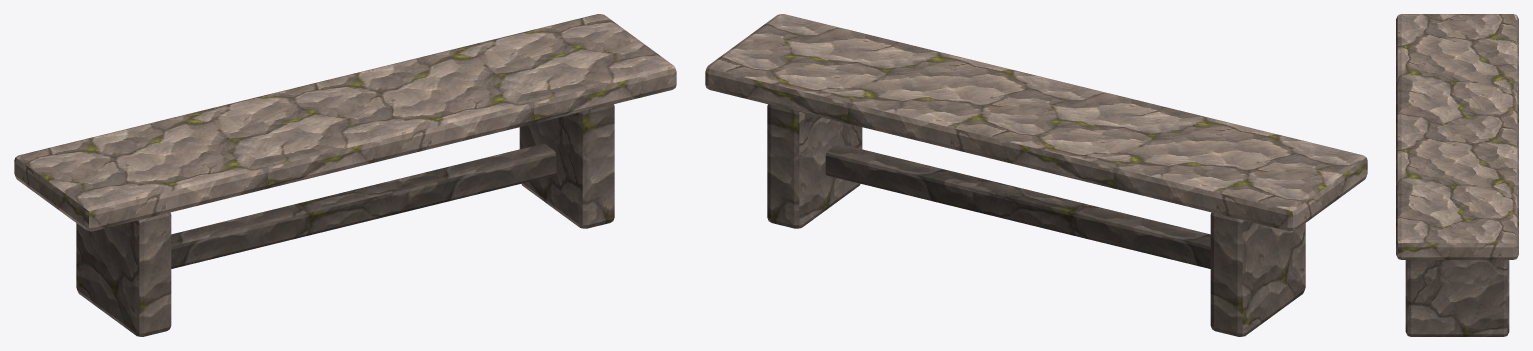
File: bench__cut_stone.glb
The picture shows the model from 3 angles, left to right: view 1: azimuth 30°, elevation 25°; view 2: azimuth 150°, elevation 25°; view 3: azimuth 270°, elevation 25°; orthographic projection. The views are drawn at different scales.
Parts seen in each view (by area): view 1: model; view 2: model; view 3: model.
Part boxes in pixels (bbox=[...]): model: bbox=[14, 14, 676, 336]; model: bbox=[705, 14, 1367, 336]; model: bbox=[1396, 14, 1518, 336].
Bounding box in the file's own units: 2 × 0.48 × 0.45.
Materials: 3 (3 with a texture image).
